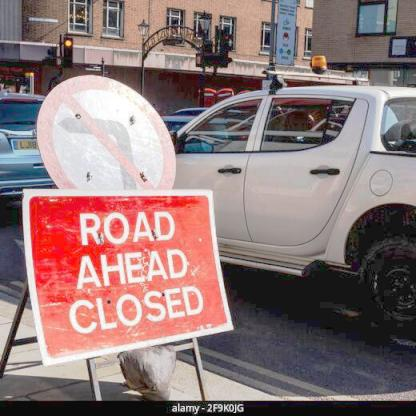No left turn: (35, 75, 183, 201)
